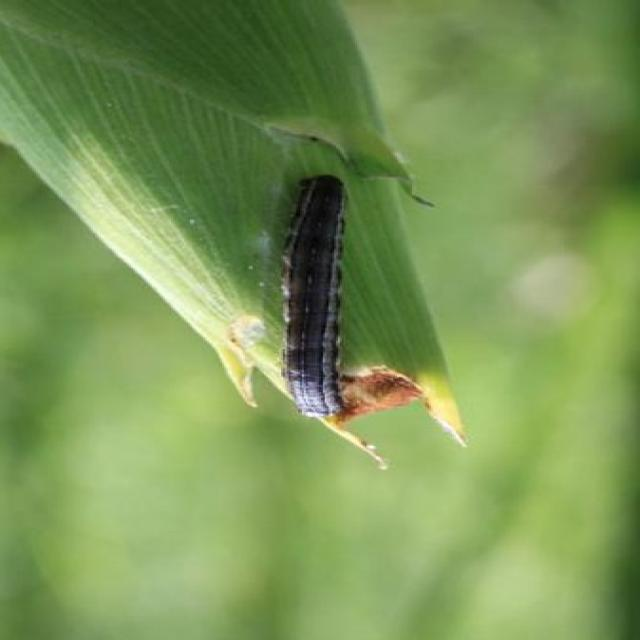army worm: (288, 174, 352, 423)
